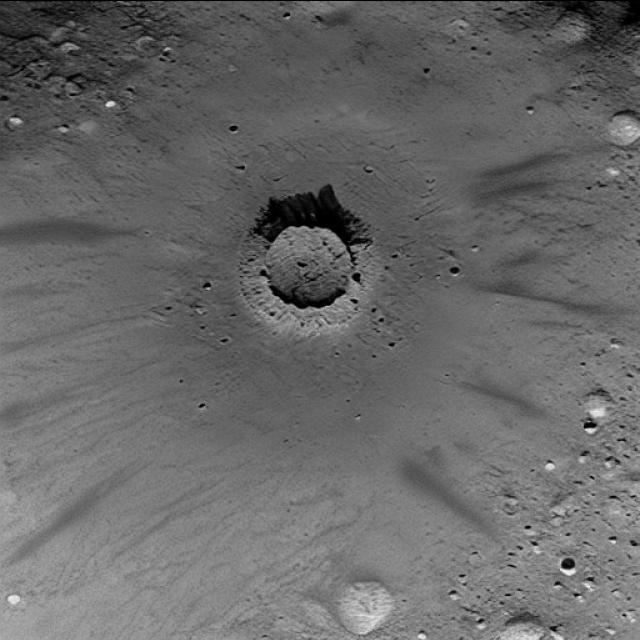crater: (265, 226, 351, 304)
